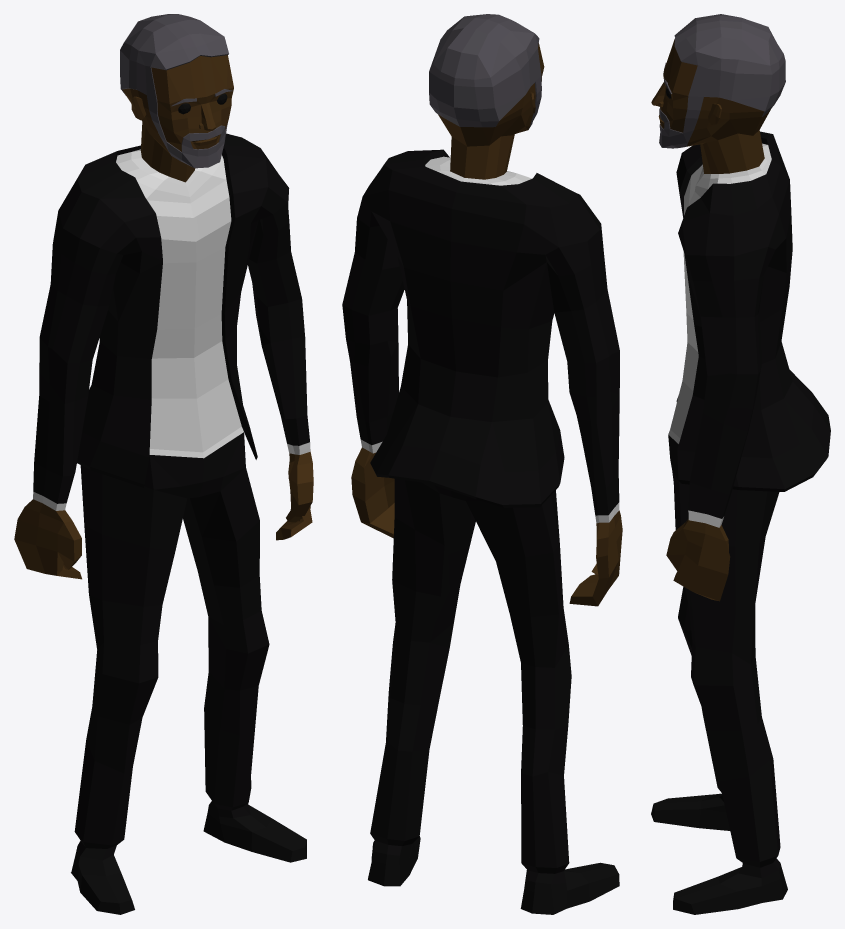
3 renders of one model, left to right at view 1: azimuth 30°, elevation 25°; view 2: azimuth 150°, elevation 25°; view 3: azimuth 270°, elevation 25°, orthographic. The views are drawn at different scales.
Visible parts, largest first — view 1: BaseHuman_static; view 2: BaseHuman_static; view 3: BaseHuman_static.
Part boxes in pixels (x1=…): BaseHuman_static: x1=14, y1=14, x2=313, y2=914; BaseHuman_static: x1=342, y1=14, x2=622, y2=914; BaseHuman_static: x1=651, y1=14, x2=830, y2=914.
Bounding box in the file's own units: 1.61 × 4.82 × 0.9361.
